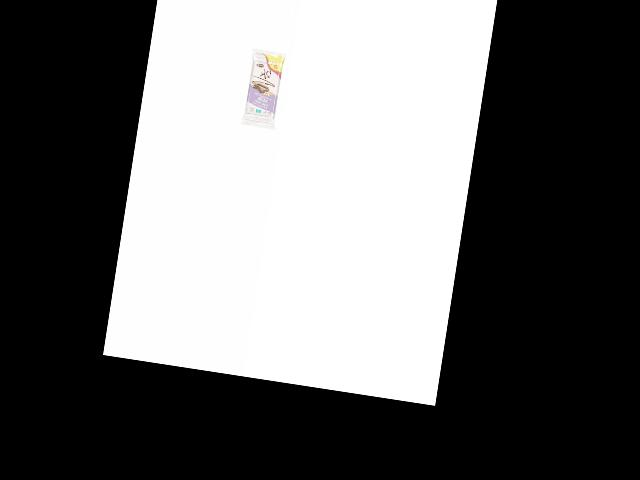chocolate: (238, 45, 288, 130)
